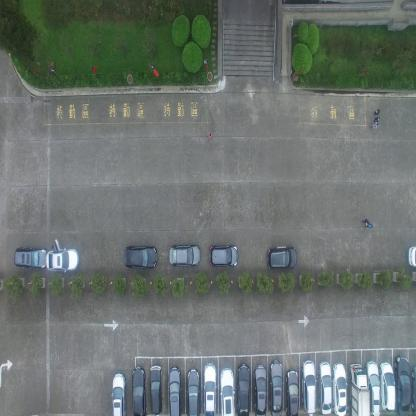car: (349, 362, 371, 415), (394, 354, 410, 416), (378, 360, 396, 411), (364, 358, 380, 415), (46, 247, 79, 274), (123, 245, 158, 270), (168, 242, 201, 268), (301, 359, 316, 415), (266, 244, 298, 270), (13, 245, 46, 270), (318, 360, 333, 414), (333, 361, 347, 416), (167, 367, 183, 415), (220, 367, 236, 415), (237, 362, 251, 415), (149, 366, 164, 415), (270, 359, 283, 415), (203, 364, 217, 416), (209, 243, 238, 268), (132, 367, 147, 415), (186, 368, 201, 415), (254, 364, 267, 415), (285, 368, 299, 415), (112, 372, 126, 416), (410, 364, 416, 416), (407, 246, 416, 268)
